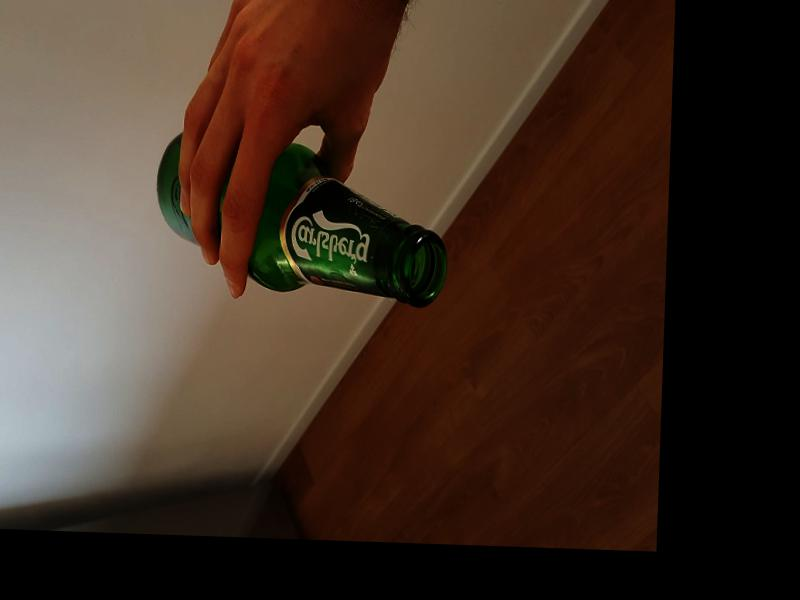Beer: (154, 138, 452, 307)
